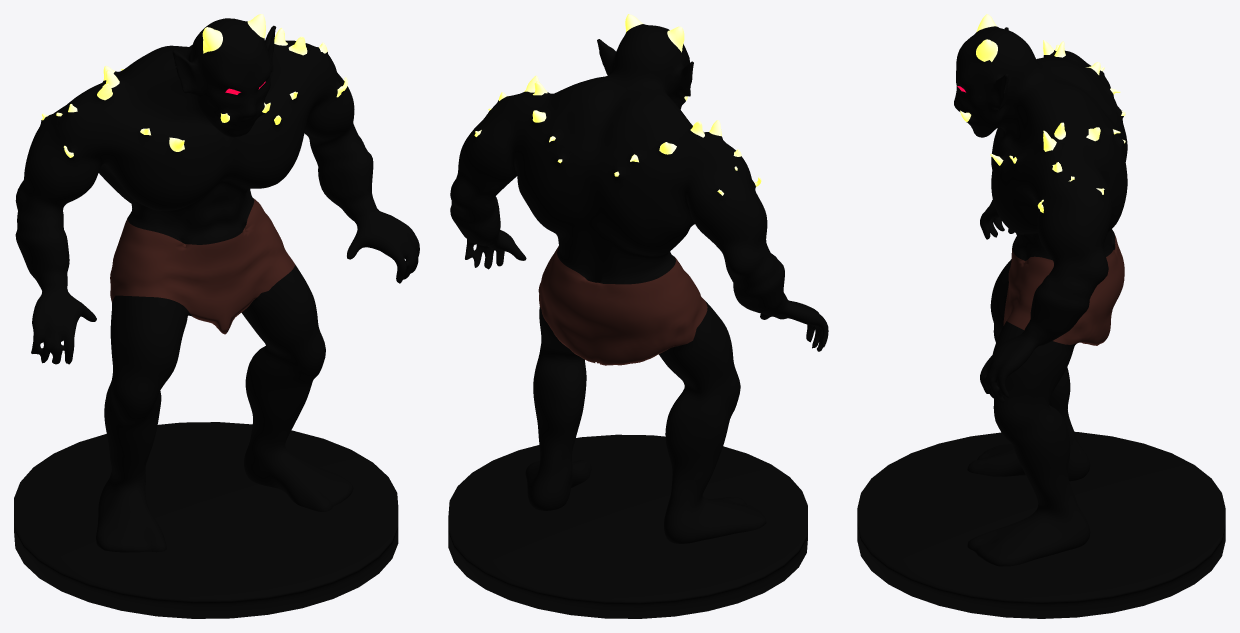
The model's file is Dark_Goblin.fbx.
3 renders of one model, left to right at view 1: azimuth 30°, elevation 25°; view 2: azimuth 150°, elevation 25°; view 3: azimuth 270°, elevation 25°, orthographic. The views are drawn at different scales.
Parts seen in each view (by area): view 1: Dark Goblin, Stage; view 2: Dark Goblin, Stage; view 3: Dark Goblin, Stage.
Part boxes in pixels (x1=…): Dark Goblin: x1=15, y1=14, x2=419, y2=552; Stage: x1=14, y1=422, x2=398, y2=618; Dark Goblin: x1=450, y1=14, x2=828, y2=543; Stage: x1=448, y1=434, x2=807, y2=618; Dark Goblin: x1=954, y1=14, x2=1127, y2=566; Stage: x1=857, y1=431, x2=1225, y2=618.
Size of the model in its own units: 157 by 208 by 135.
